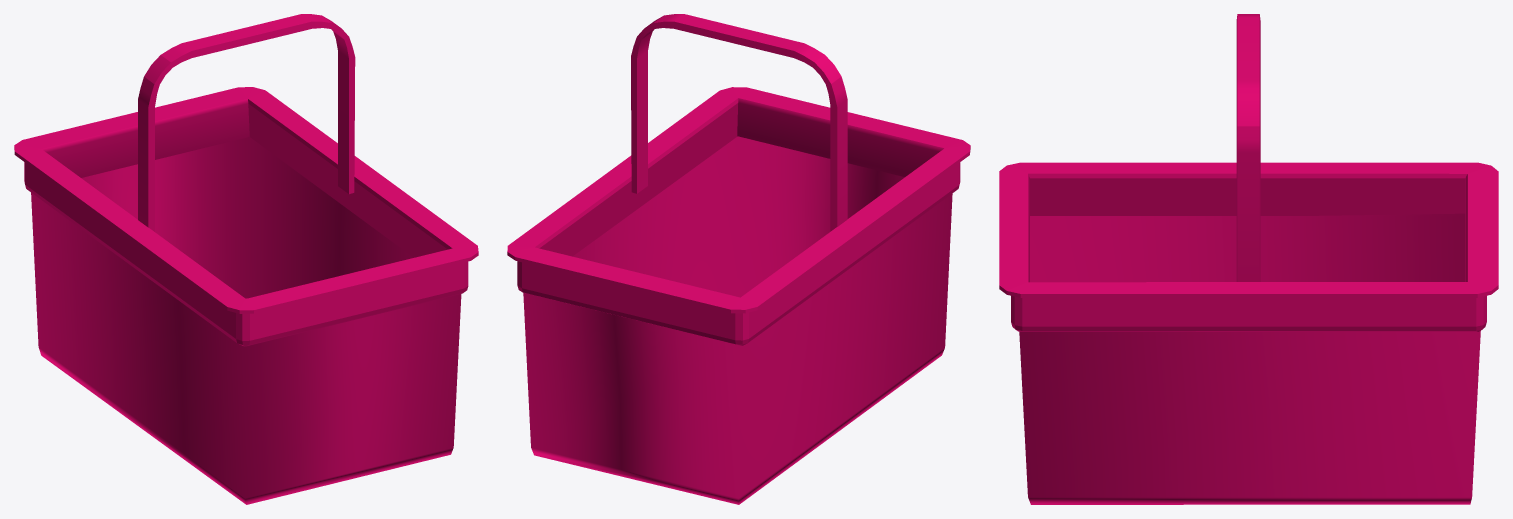
The model's file is Shop_Basket_01_Lod0.fbx.
The picture shows the model from 3 angles, left to right: view 1: azimuth 30°, elevation 25°; view 2: azimuth 150°, elevation 25°; view 3: azimuth 270°, elevation 25°; orthographic projection. The views are drawn at different scales.
Parts seen in each view (by area): view 1: Shop_Basket_01_Lod0; view 2: Shop_Basket_01_Lod0; view 3: Shop_Basket_01_Lod0.
Part boxes in pixels (x1,y1,x2,y2): Shop_Basket_01_Lod0: [14, 14, 478, 504]; Shop_Basket_01_Lod0: [507, 14, 970, 504]; Shop_Basket_01_Lod0: [999, 14, 1498, 504].
Bounding box in the file's own units: 34.31 × 48.84 × 55.07.
